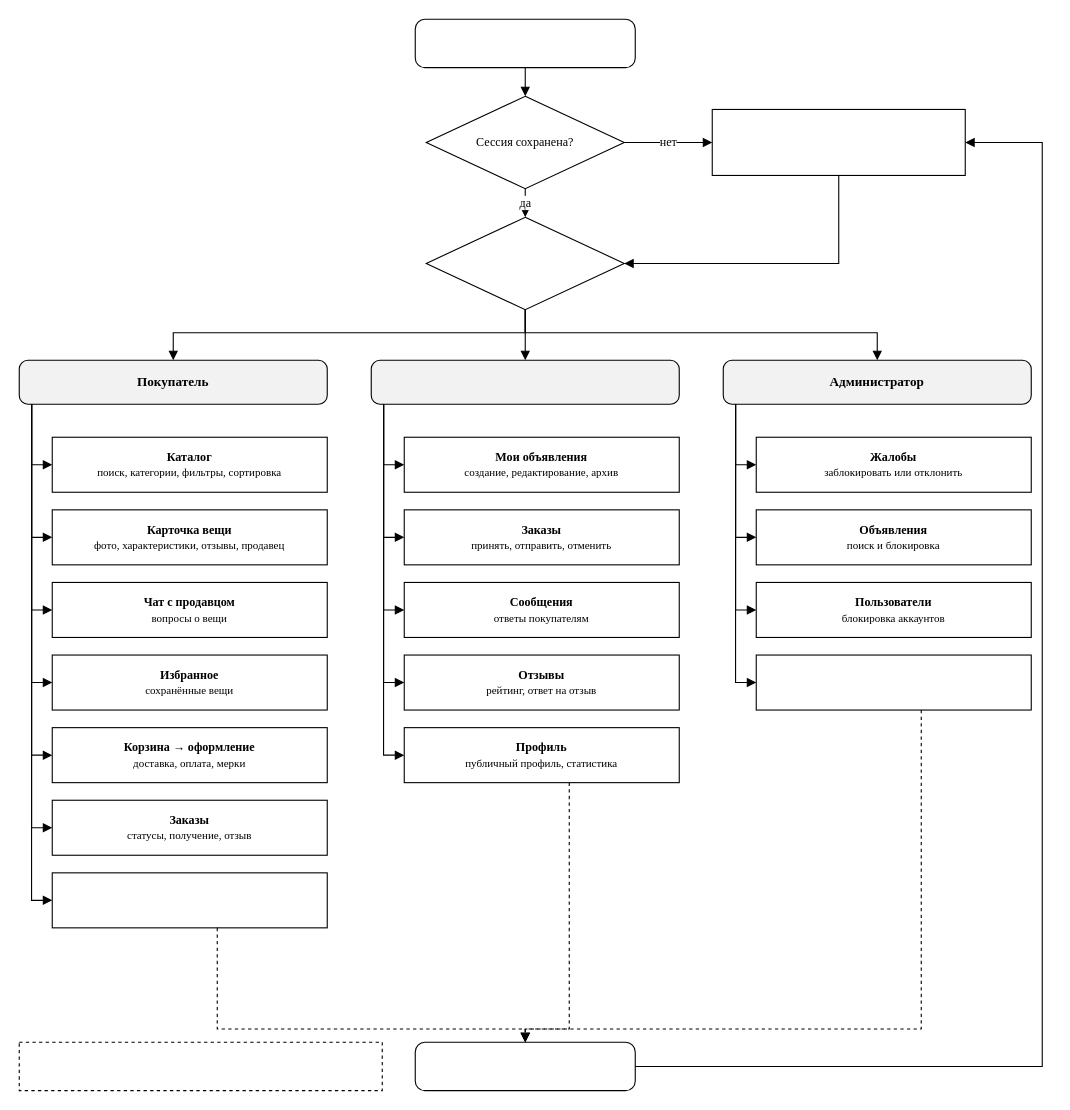
The diagram is 1070 pixels wide and 1110 high, and some of its shapes have lost their labels. Each missing label, with the centre of its shape:
Вход или регистрация с выбором роли: покупатель или продавец: [838,141]
Выход из аккаунта: [524,1066]
Запуск приложения: [524,43]
Продавец (ателье): [524,381]
Профиль сообщения, мои отзывы, тема: [189,900]
Профиль статистика площадки: [893,682]
Роль пользователя: [524,263]
Уведомления о заказах, отзывах, жалобах и модерации — у всех ролей: [200,1066]
